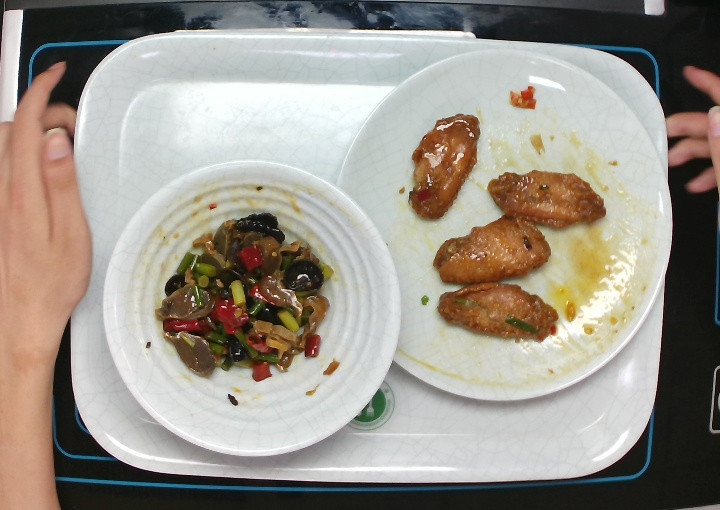JYsf-Da_Yuan_Pan: (333, 45, 673, 404)
JYsf-Xiao_Tang_Wan: (100, 156, 403, 459)
